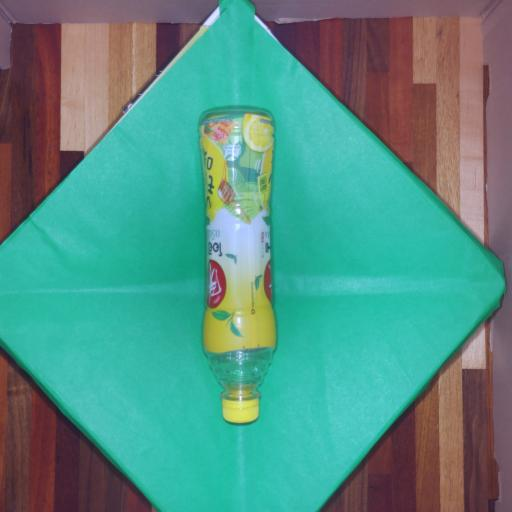bottle: (200, 110, 275, 423)
